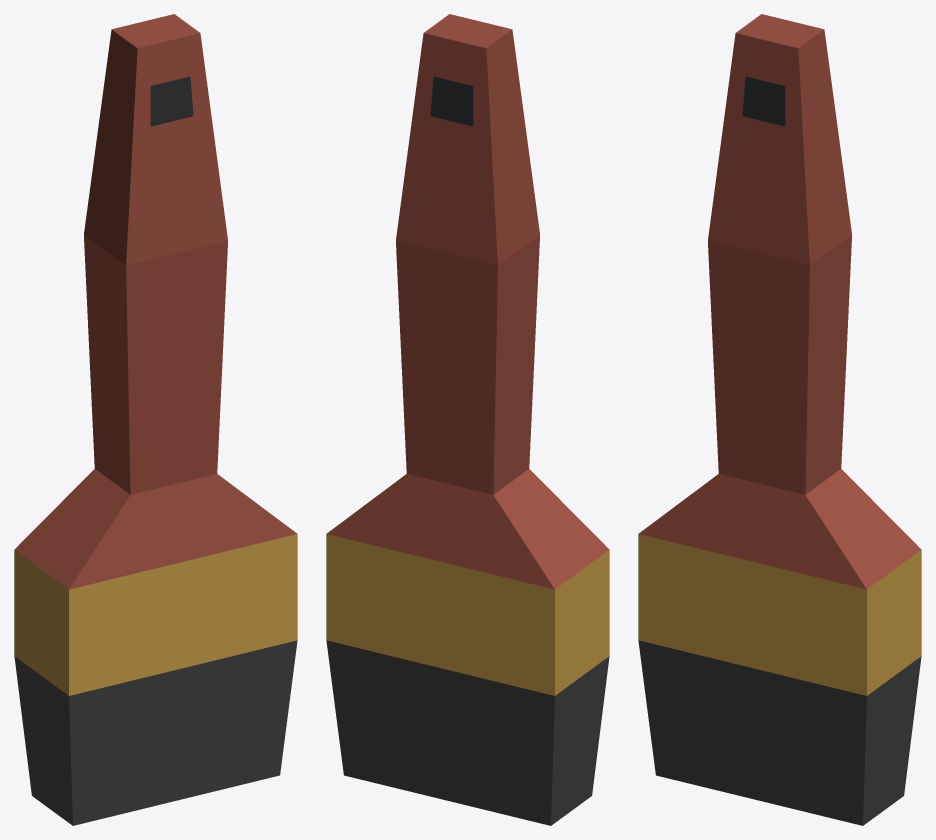
Rendered from SM_Item_Brush_01.fbx.
The picture shows the model from 3 angles, left to right: view 1: azimuth 30°, elevation 25°; view 2: azimuth 150°, elevation 25°; view 3: azimuth 330°, elevation 25°; orthographic projection.
Parts seen in each view (by area): view 1: SM_Item_Brush_01; view 2: SM_Item_Brush_01; view 3: SM_Item_Brush_01.
Part boxes in pixels (bbox=[...]): SM_Item_Brush_01: bbox=[14, 14, 297, 825]; SM_Item_Brush_01: bbox=[326, 14, 609, 825]; SM_Item_Brush_01: bbox=[638, 14, 921, 825].
Size of the model in its own units: 11.62 by 36.65 by 4.81.
